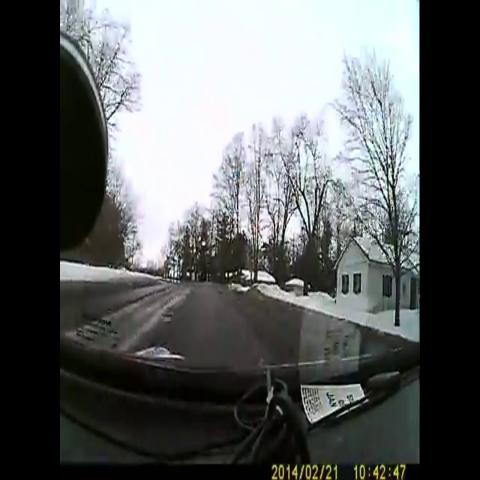pothole: (155, 296, 180, 332)
